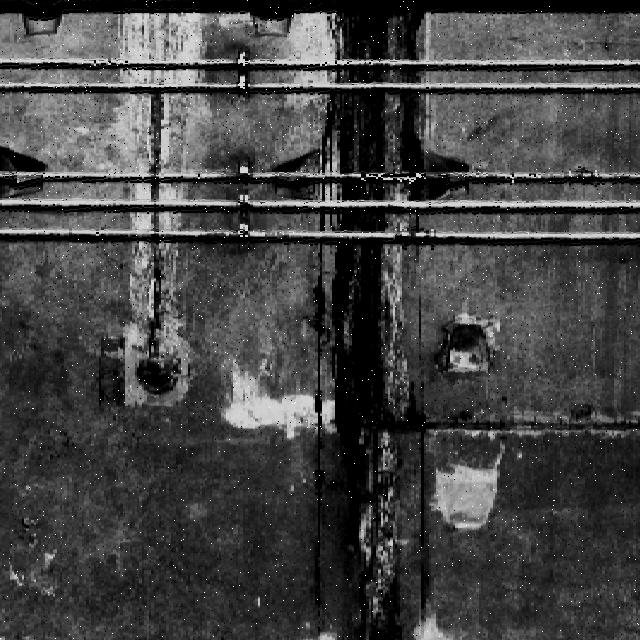leakage: (308, 1, 455, 638)
